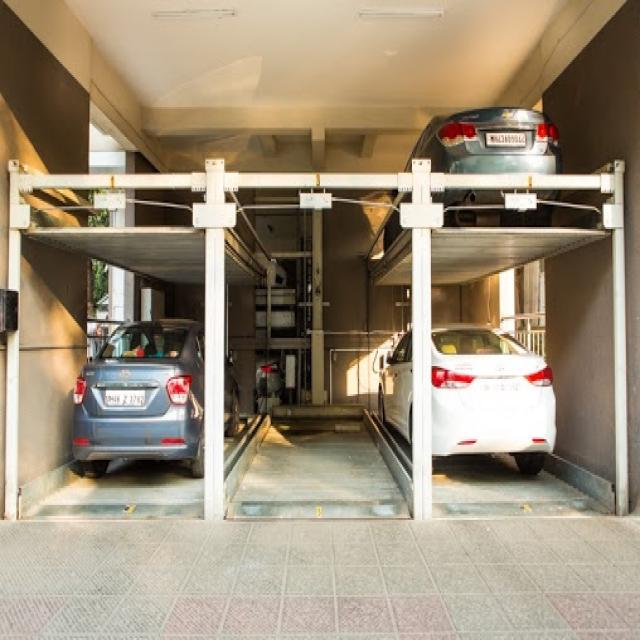plate: (100, 388, 147, 409), (484, 127, 531, 148)
